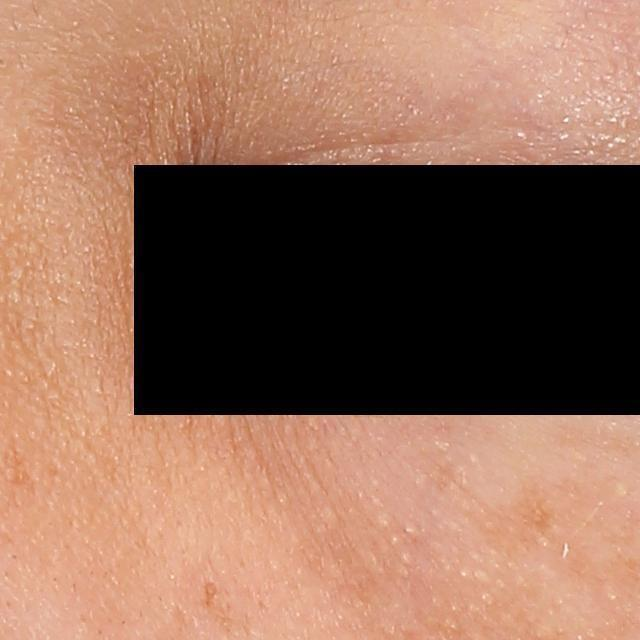melasma: (478, 485, 554, 562), (3, 432, 42, 505)
